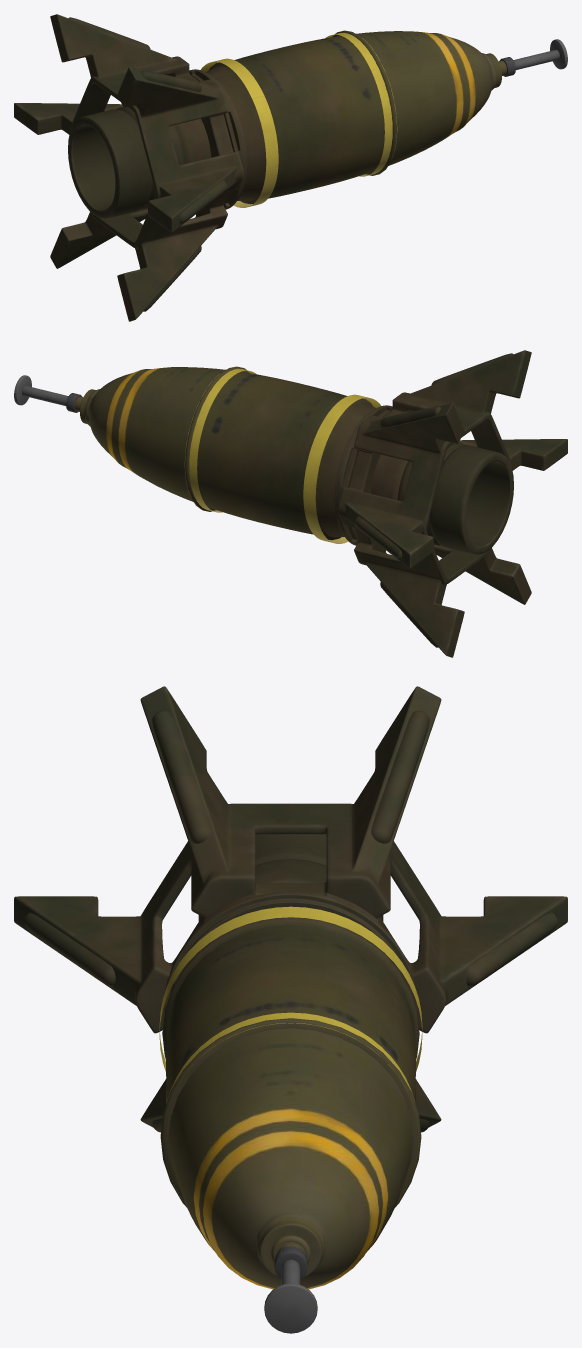
File: hebomb_2.glb
3 renders of one model, top to bottom at view 1: azimuth 30°, elevation 25°; view 2: azimuth 150°, elevation 25°; view 3: azimuth 270°, elevation 25°, orthographic. The views are drawn at different scales.
Visible parts, largest first — view 1: hebomb_2; view 2: hebomb_2; view 3: hebomb_2.
Part boxes in pixels (bbox=[...]): hebomb_2: bbox=[14, 14, 567, 321]; hebomb_2: bbox=[14, 350, 567, 657]; hebomb_2: bbox=[14, 686, 567, 1333].
Size of the model in its own units: 1.13 by 0.5893 by 0.6626.
4 materials, 4 textured.
